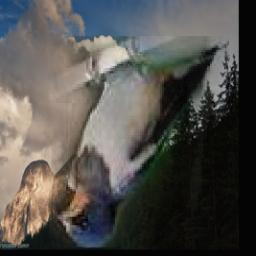Swallow: (49, 37, 229, 249)
